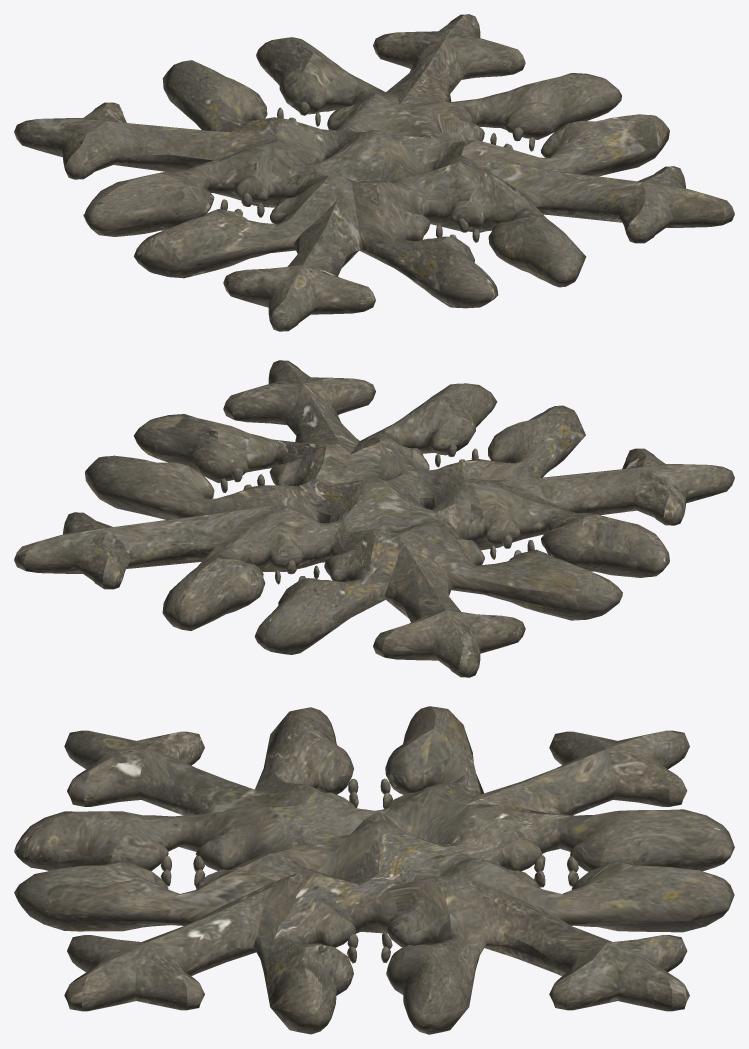
The model's file is 3demblem17.gltf.
3 views of the same model, one above another, from view 1: azimuth 30°, elevation 25°; view 2: azimuth 150°, elevation 25°; view 3: azimuth 270°, elevation 25° (orthographic). The views are drawn at different scales.
Parts seen in each view (by area): view 1: Asset 4.004; view 2: Asset 4.004; view 3: Asset 4.004.
Part boxes in pixels (x1,y1,x2,y2): Asset 4.004: (14, 14, 734, 331); Asset 4.004: (14, 360, 734, 677); Asset 4.004: (14, 706, 734, 1034).
Size of the model in its own units: 1 by 0.1454 by 1.
1 material, 1 textured.
